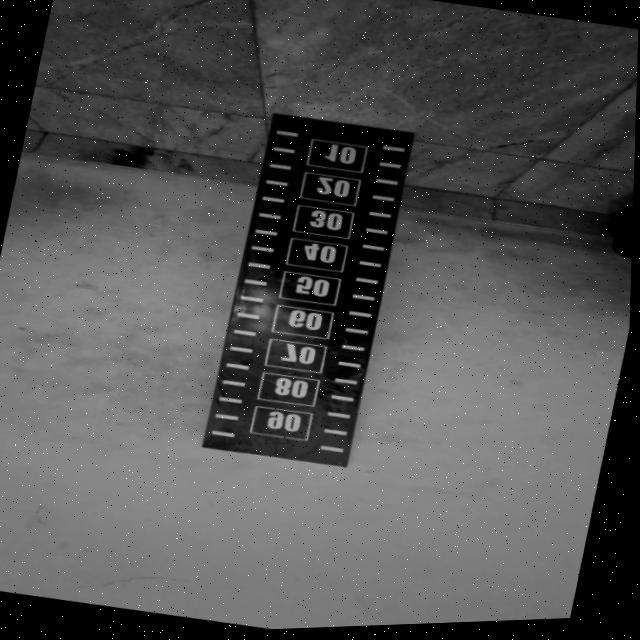water-meter: (178, 87, 440, 487)
